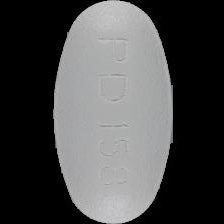0071-0158: (0, 0, 224, 224)
